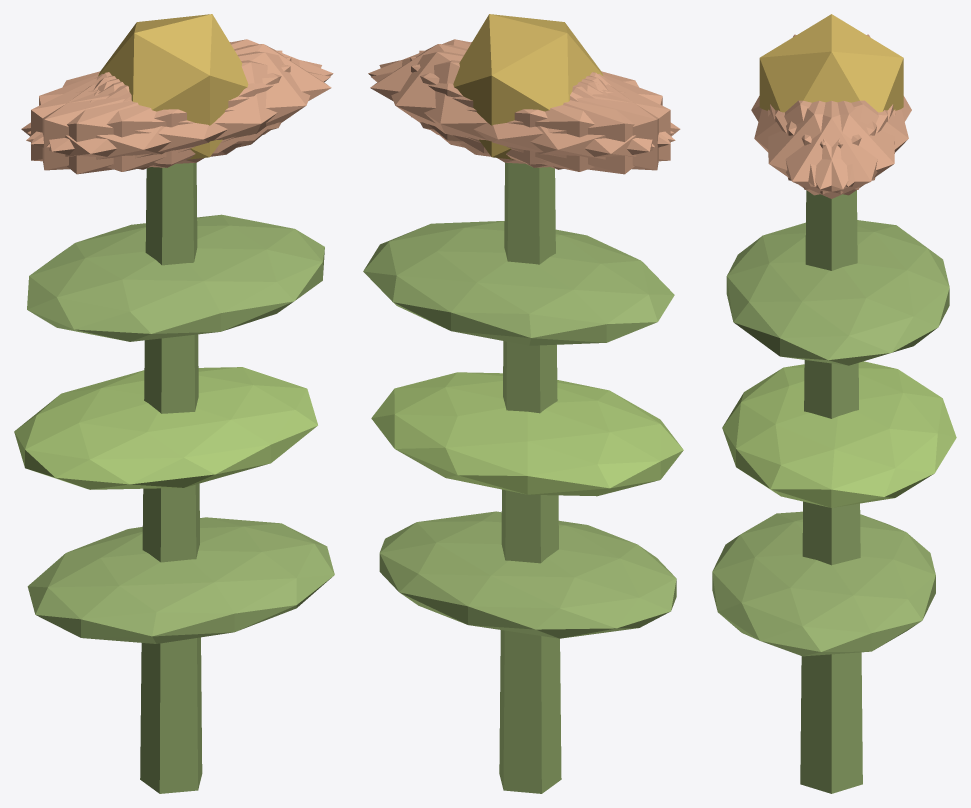
File: terminalia-calamansanai.glb
The picture shows the model from 3 angles, left to right: view 1: azimuth 30°, elevation 25°; view 2: azimuth 150°, elevation 25°; view 3: azimuth 270°, elevation 25°; orthographic projection.
Parts seen in each view (by area): view 1: leaf0, leaf1, leaf2, stem, center, petal1, petal6, petal2, petal5, petal7, petal0, petal4 (+2 smaller); view 2: leaf1, leaf2, leaf0, stem, center, petal8, petal3, petal7, petal4, petal2, petal0, petal5 (+2 smaller); view 3: leaf2, leaf1, leaf0, stem, center, petal0, petal5, petal4, petal1, petal8.
Part boxes in pixels (bbox=[...]): leaf0: bbox=[27, 517, 334, 643]; leaf1: bbox=[14, 367, 317, 489]; leaf2: bbox=[27, 214, 324, 341]; stem: bbox=[140, 162, 202, 793]; center: bbox=[98, 14, 248, 159]; petal1: bbox=[26, 60, 330, 171]; petal6: bbox=[21, 74, 241, 174]; petal2: bbox=[42, 50, 282, 170]; petal5: bbox=[47, 51, 321, 164]; petal7: bbox=[31, 57, 291, 167]; petal0: bbox=[98, 44, 331, 153]; petal4: bbox=[27, 39, 333, 144]; leaf1: bbox=[371, 372, 683, 496]; leaf2: bbox=[363, 221, 674, 345]; leaf0: bbox=[379, 511, 676, 638]; stem: bbox=[499, 162, 561, 793]; center: bbox=[453, 14, 603, 159]; petal8: bbox=[371, 60, 675, 171]; petal3: bbox=[460, 74, 680, 174]; petal7: bbox=[419, 50, 658, 170]; petal4: bbox=[379, 51, 654, 164]; petal2: bbox=[410, 57, 670, 167]; petal0: bbox=[370, 44, 603, 153]; petal5: bbox=[368, 39, 673, 144]; leaf2: bbox=[726, 220, 949, 365]; leaf1: bbox=[722, 361, 956, 507]; leaf0: bbox=[712, 511, 935, 656]; stem: bbox=[800, 190, 862, 793]; center: bbox=[759, 14, 903, 112]; petal0: bbox=[770, 100, 893, 198]; petal5: bbox=[768, 100, 887, 195]; petal4: bbox=[775, 101, 895, 195]; petal1: bbox=[754, 100, 876, 186]; petal8: bbox=[786, 100, 908, 186].
Size of the model in its own units: 0.1452 by 0.3506 by 0.1039.
